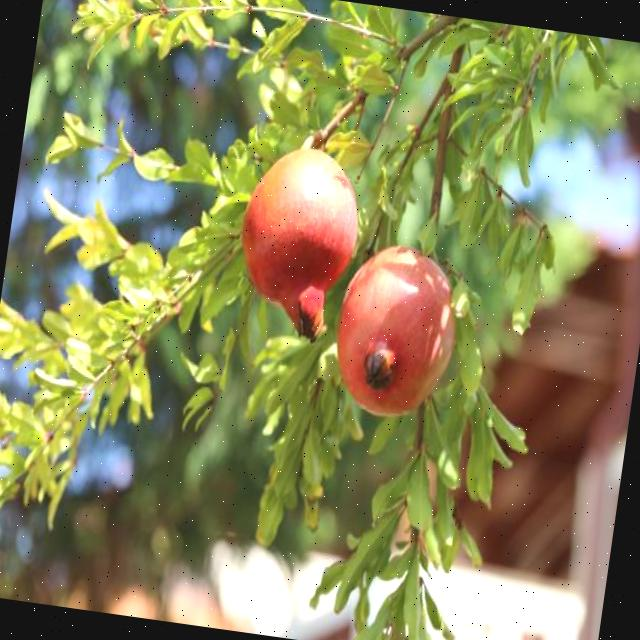Ripe: (222, 135, 367, 351), (324, 233, 466, 426)
